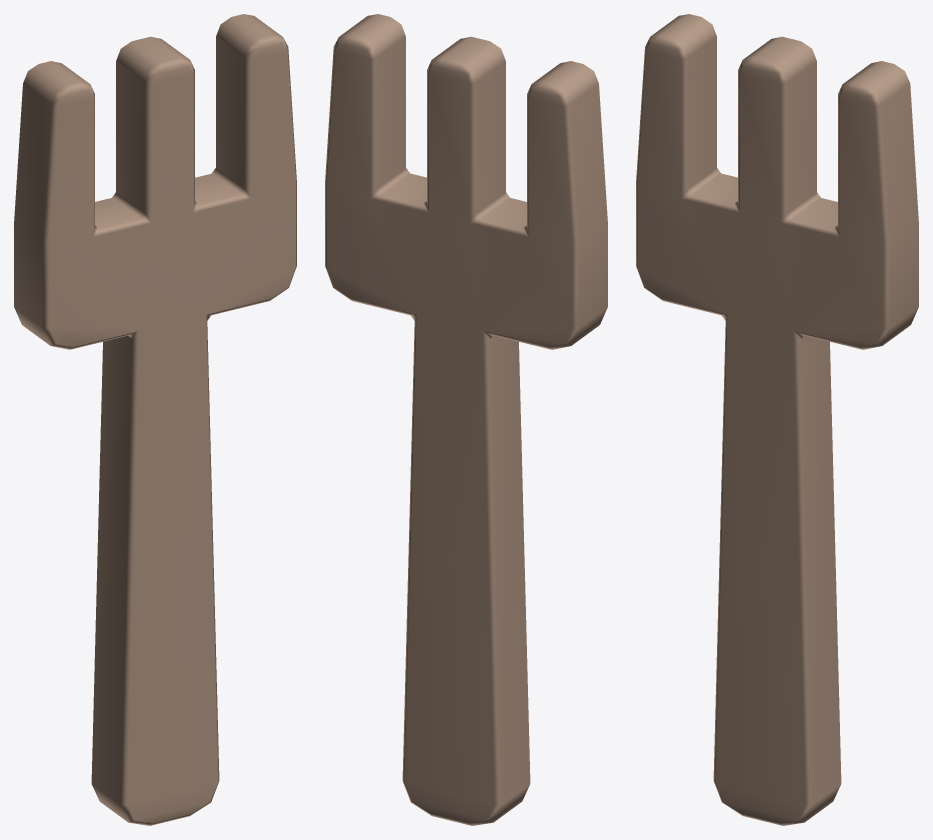
File: Fork.glb
The picture shows the model from 3 angles, left to right: view 1: azimuth 30°, elevation 25°; view 2: azimuth 150°, elevation 25°; view 3: azimuth 330°, elevation 25°; orthographic projection.
Visible parts, largest first — view 1: Spatula_1; view 2: Spatula_1; view 3: Spatula_1.
Boxes of the visible parts, bbox=[...] form: Spatula_1: bbox=[14, 14, 296, 825]; Spatula_1: bbox=[325, 14, 607, 825]; Spatula_1: bbox=[636, 14, 918, 825].
Bounding box in the file's own units: 0.1452 × 0.4158 × 0.0335.
Materials: 1 (1 with a texture image).
